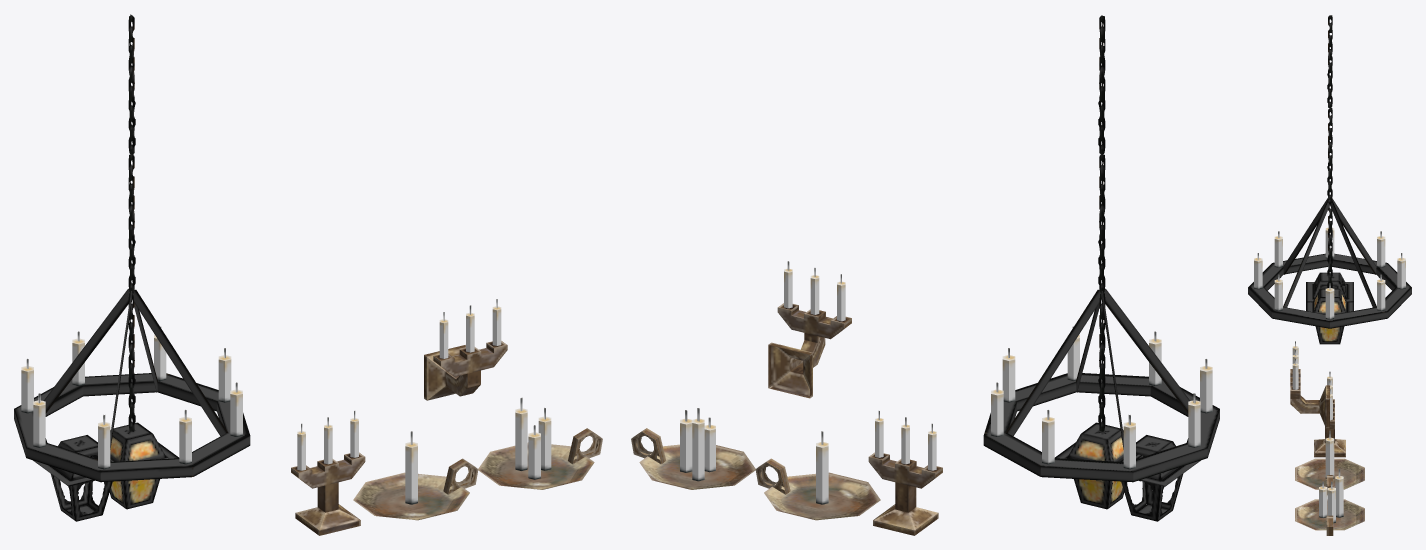
The model's file is PropsLights_Meshes.fbx.
The picture shows the model from 3 angles, left to right: view 1: azimuth 30°, elevation 25°; view 2: azimuth 150°, elevation 25°; view 3: azimuth 270°, elevation 25°; orthographic projection. The views are drawn at different scales.
Visible parts, largest first — view 1: chandelierFrameShape, candleTriple_Stand, candleTriple_Wall, candleSingle_Plate, candleTriple_Plate, lanternUnlit, litMesh, candles, chainLong, handle (×2), cande1, chainShort; view 2: chandelierFrameShape, candleTriple_Wall, candleTriple_Stand, candleSingle_Plate, candleTriple_Plate, lanternUnlit, litMesh, candles, chainLong, handle (×2), chainShort, cande1; view 3: chandelierFrameShape, candleSingle_Plate, candleTriple_Plate, candleTriple_Wall, candles, litMesh, chainLong, lanternUnlit, candleTriple_Stand, cande1, chainShort, lanternLit.
Part boxes in pixels (x1,y1,x2,y2): chandelierFrameShape: [14, 288, 250, 482]; candleTriple_Stand: [291, 411, 365, 535]; candleTriple_Wall: [424, 299, 507, 400]; candleSingle_Plate: [353, 472, 469, 520]; candleTriple_Plate: [478, 442, 594, 489]; lanternUnlit: [33, 435, 113, 521]; litMesh: [109, 430, 166, 509]; candles: [515, 397, 551, 479]; chainLong: [128, 14, 135, 293]; handle (×2): [443, 428, 602, 494]; cande1: [405, 431, 417, 504]; chainShort: [128, 293, 135, 431]; chandelierFrameShape: [983, 288, 1219, 482]; candleTriple_Wall: [768, 261, 851, 398]; candleTriple_Stand: [868, 411, 942, 535]; candleSingle_Plate: [764, 472, 880, 520]; candleTriple_Plate: [639, 444, 755, 489]; lanternUnlit: [1121, 435, 1200, 521]; litMesh: [1067, 430, 1124, 509]; candles: [680, 408, 715, 481]; chainLong: [1098, 15, 1105, 292]; handle (×2): [631, 428, 790, 494]; chainShort: [1098, 293, 1105, 431]; cande1: [816, 431, 828, 504]; chandelierFrameShape: [1248, 198, 1411, 328]; candleSingle_Plate: [1295, 458, 1364, 489]; candleTriple_Plate: [1295, 499, 1364, 530]; candleTriple_Wall: [1290, 341, 1329, 428]; candles: [1319, 469, 1343, 523]; litMesh: [1313, 290, 1346, 344]; chainLong: [1327, 15, 1332, 199]; lanternUnlit: [1306, 272, 1353, 302]; candleTriple_Stand: [1314, 371, 1345, 457]; cande1: [1325, 430, 1334, 478]; chainShort: [1327, 206, 1332, 288]; lanternLit: [1306, 289, 1353, 311].
Bounding box in the file's own units: 434 × 400 × 160.
1 material, 1 textured.
